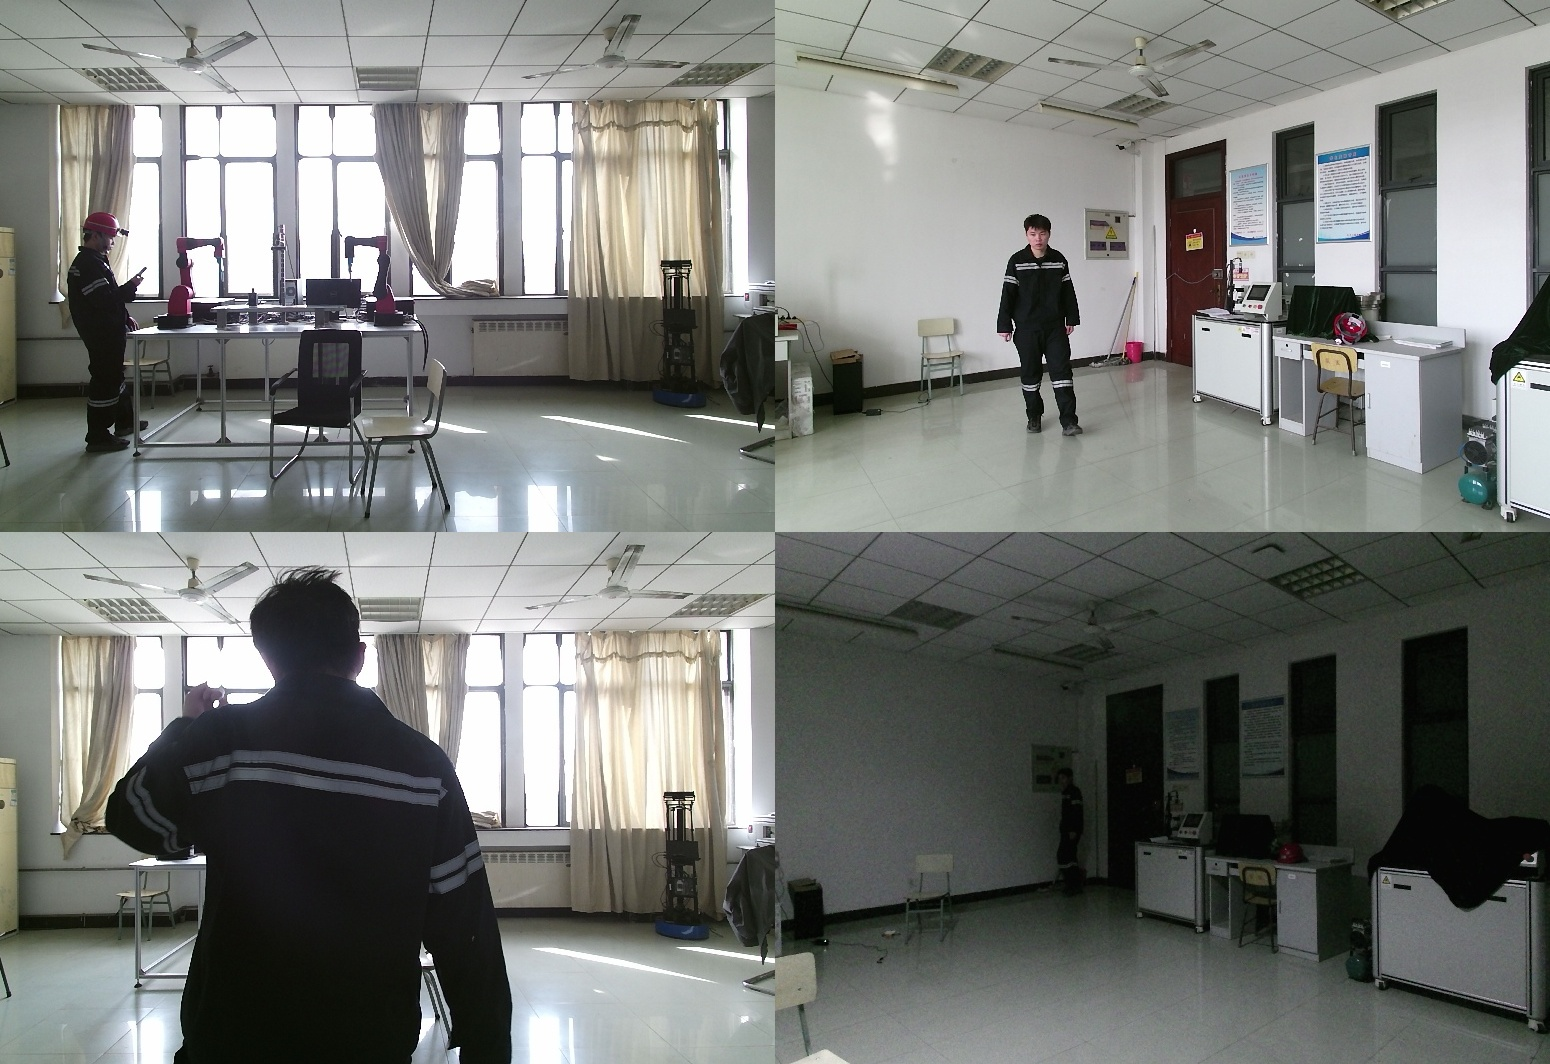person: (112, 573, 511, 1064), (992, 215, 1095, 447), (67, 214, 144, 454), (1049, 768, 1086, 901)
